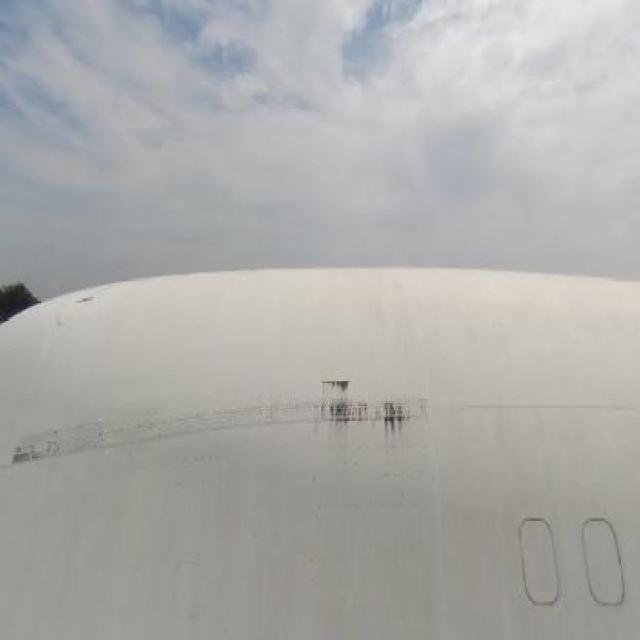Rust: (310, 366, 442, 446)
Scartch: (11, 434, 77, 472)
